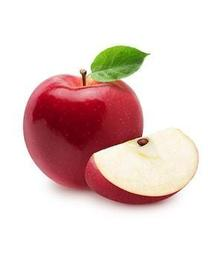apple: (22, 46, 144, 189), (84, 127, 198, 204)
